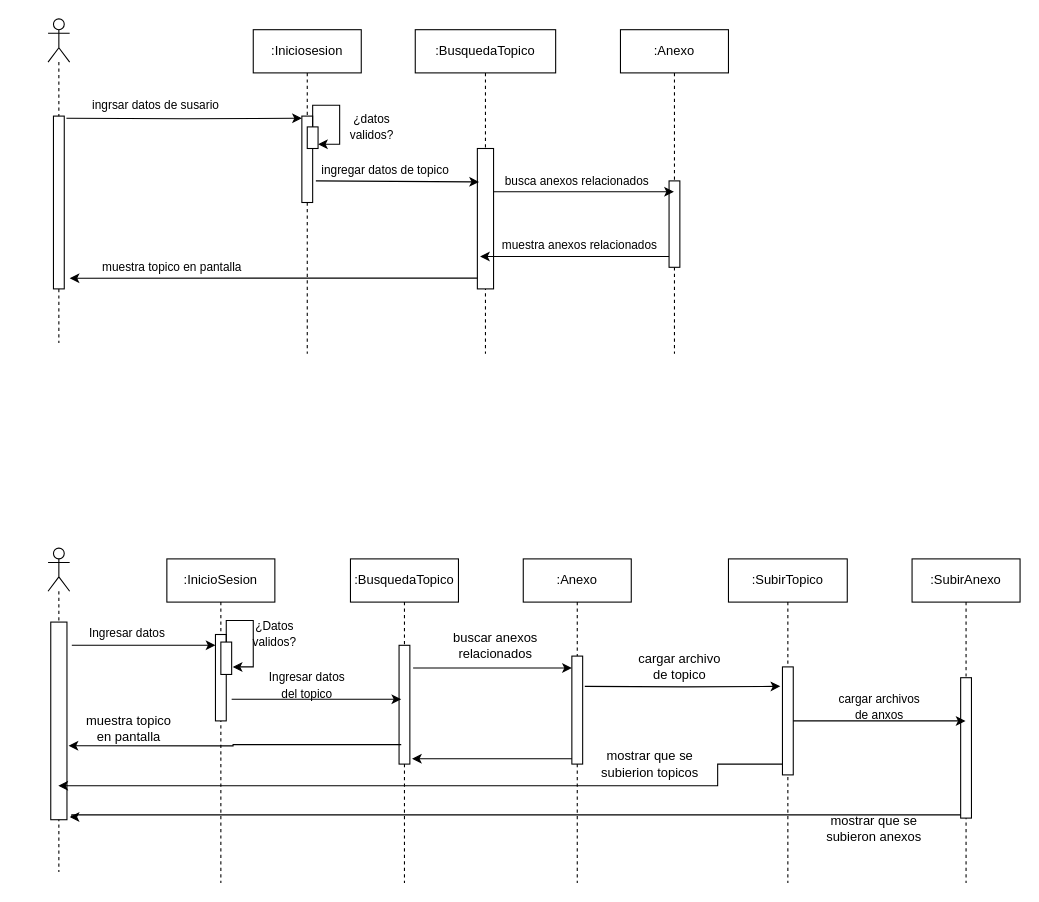
The diagram is 1039 pixels wide and 902 high, and some of its shapes have lost their labels. The shapes that lost their labels are listed below. From the top down, each one's box as (x1, y1, x2, y2) in pixels, then its label:
(47, 18, 70, 343): Usuario
(47, 547, 70, 872): Administrador
